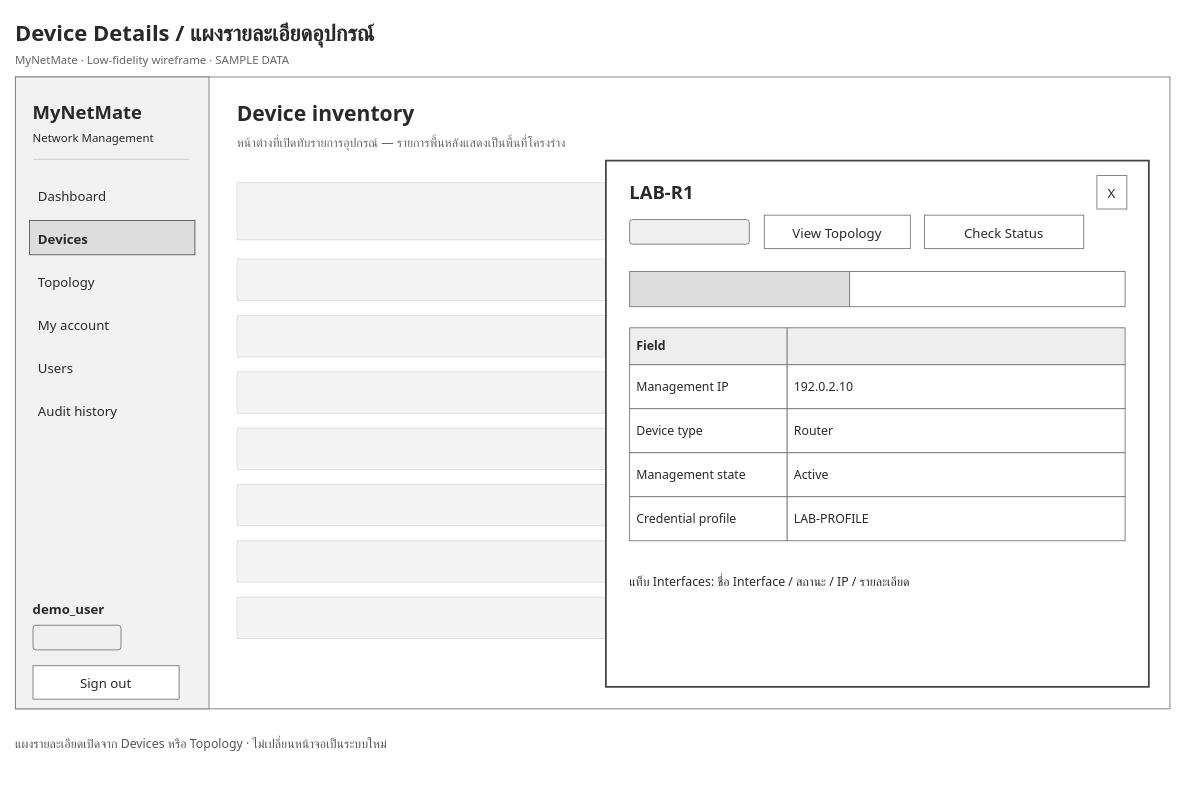
The diagram is 1185 pixels wide and 786 high, and some of its shapes have lost their labels. Each missing label, with the centre of its shape:
Admin: point (76, 637)
Device Overview: point (739, 289)
Interfaces: point (987, 289)
Reachable: point (689, 231)
Value: point (955, 346)
